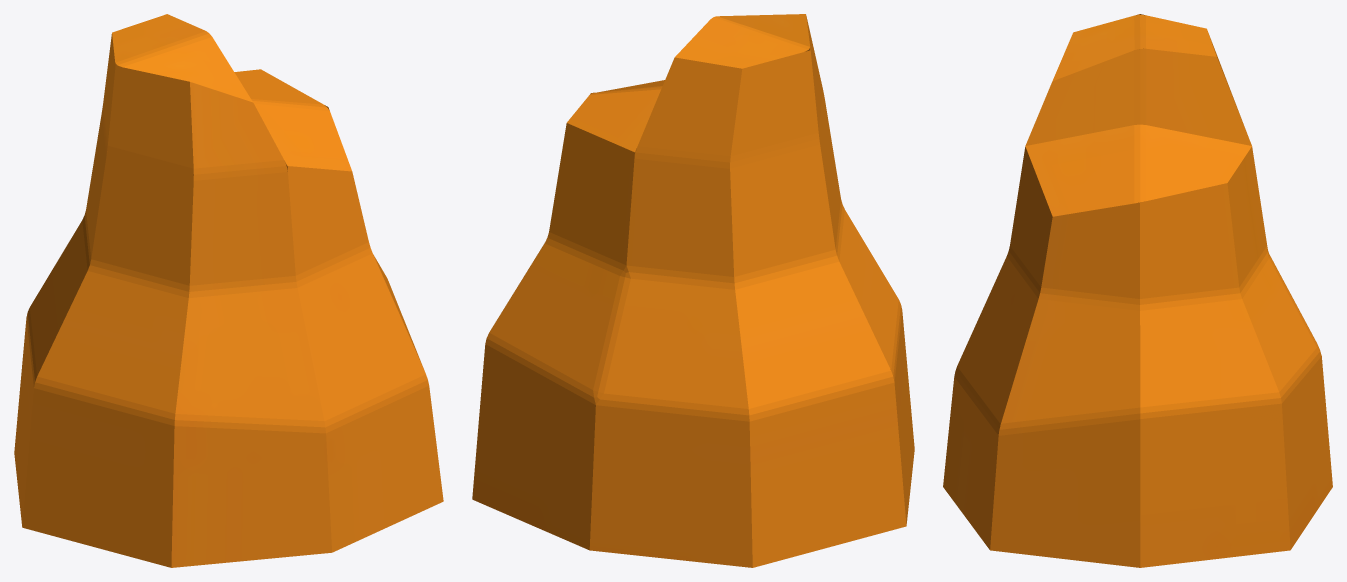
Rendered from Desert_Rock_2.fbx.
3 views of the same model, side by side, from view 1: azimuth 30°, elevation 25°; view 2: azimuth 150°, elevation 25°; view 3: azimuth 270°, elevation 25° (orthographic). The views are drawn at different scales.
Visible parts, largest first — view 1: Desert_Rock_2; view 2: Desert_Rock_2; view 3: Desert_Rock_2.
Boxes of the visible parts, <box> form: Desert_Rock_2: <box>14,14,443,567</box>; Desert_Rock_2: <box>472,14,914,567</box>; Desert_Rock_2: <box>943,14,1332,567</box>.
Size of the model in its own units: 1.84 by 2.07 by 1.71.
